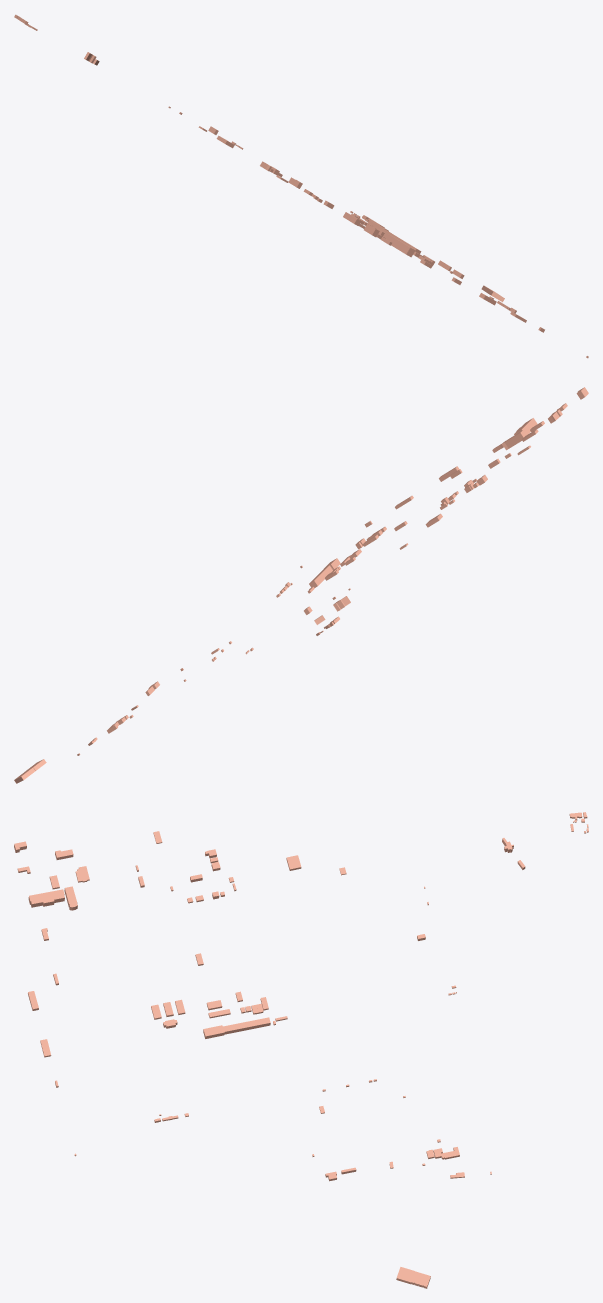
3 views of the same model, one above another, from view 1: azimuth 30°, elevation 25°; view 2: azimuth 150°, elevation 25°; view 3: azimuth 270°, elevation 25° (orthographic). The views are drawn at different scales.
Size of the model in its own units: 895 by 680 by 1194.
